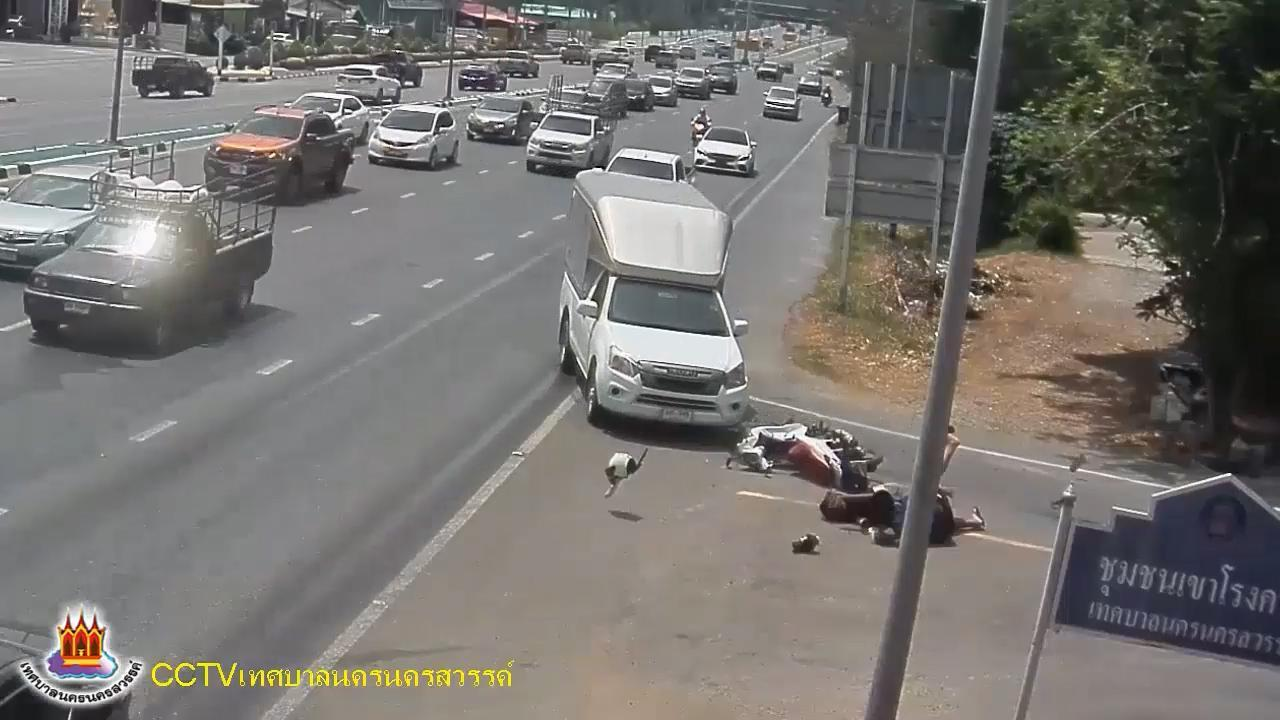accident: (871, 423, 983, 550)
